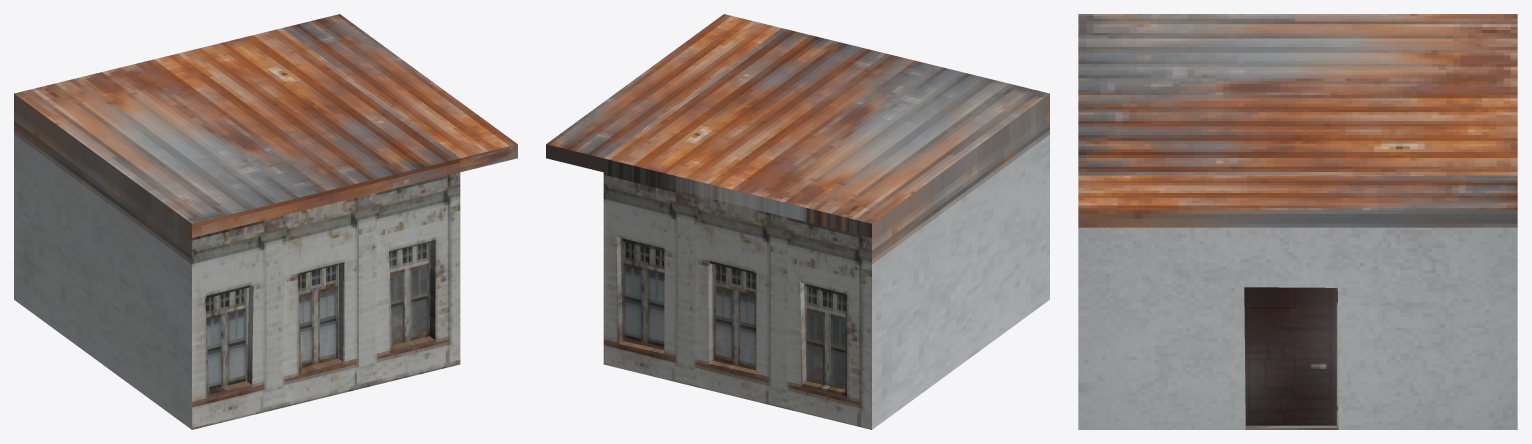
The model's file is House9.fbx.
3 renders of one model, left to right at view 1: azimuth 30°, elevation 25°; view 2: azimuth 150°, elevation 25°; view 3: azimuth 270°, elevation 25°, orthographic. The views are drawn at different scales.
Visible parts, largest first — view 1: Cube; view 2: Cube; view 3: Cube.
Part boxes in pixels (x1,y1,x2,y2): Cube: (14,14,517,429); Cube: (546,14,1049,429); Cube: (1078,14,1517,429).
Bounding box in the file's own units: 709 × 428 × 670.
Materials: 1 (1 with a texture image).
